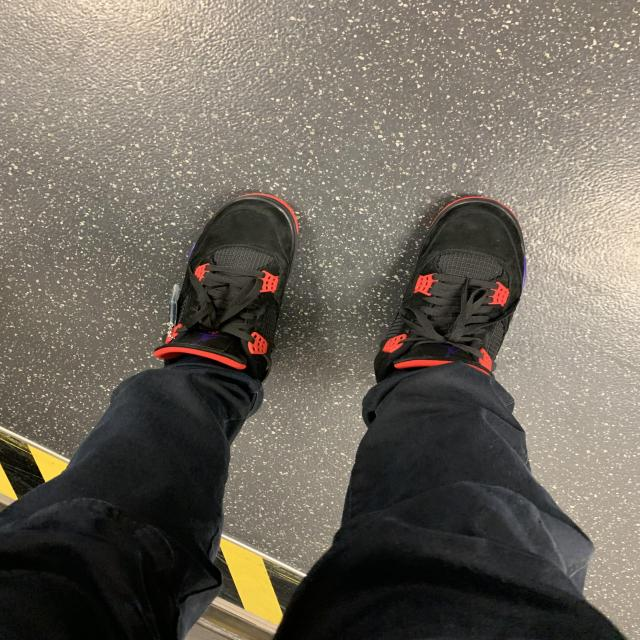shoe: (372, 194, 531, 406), (151, 191, 301, 400)
